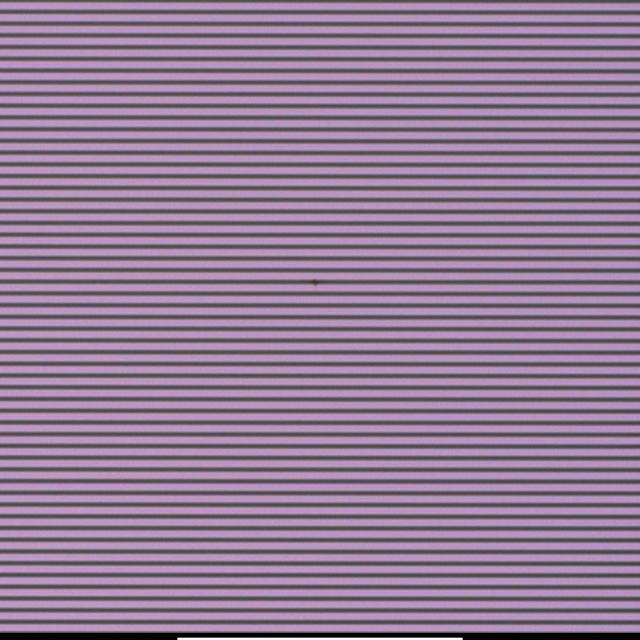03_intrusion: (309, 272, 322, 290)
